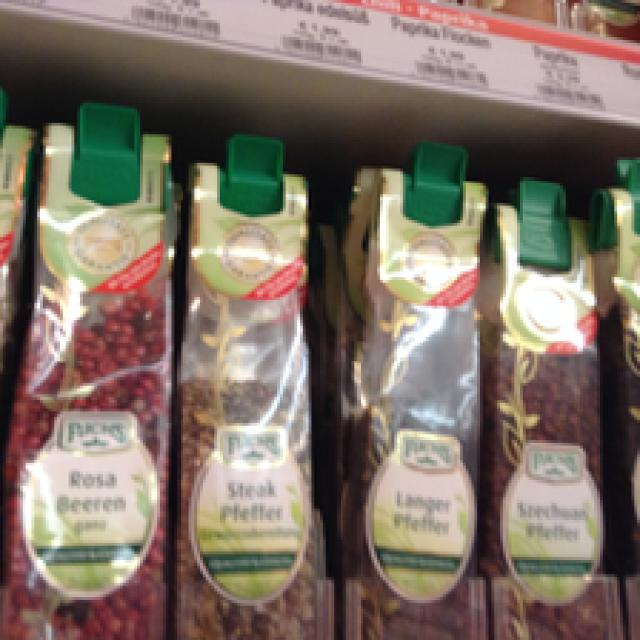groceries: (6, 117, 171, 637), (174, 157, 326, 637), (346, 166, 483, 637), (483, 194, 608, 637)
